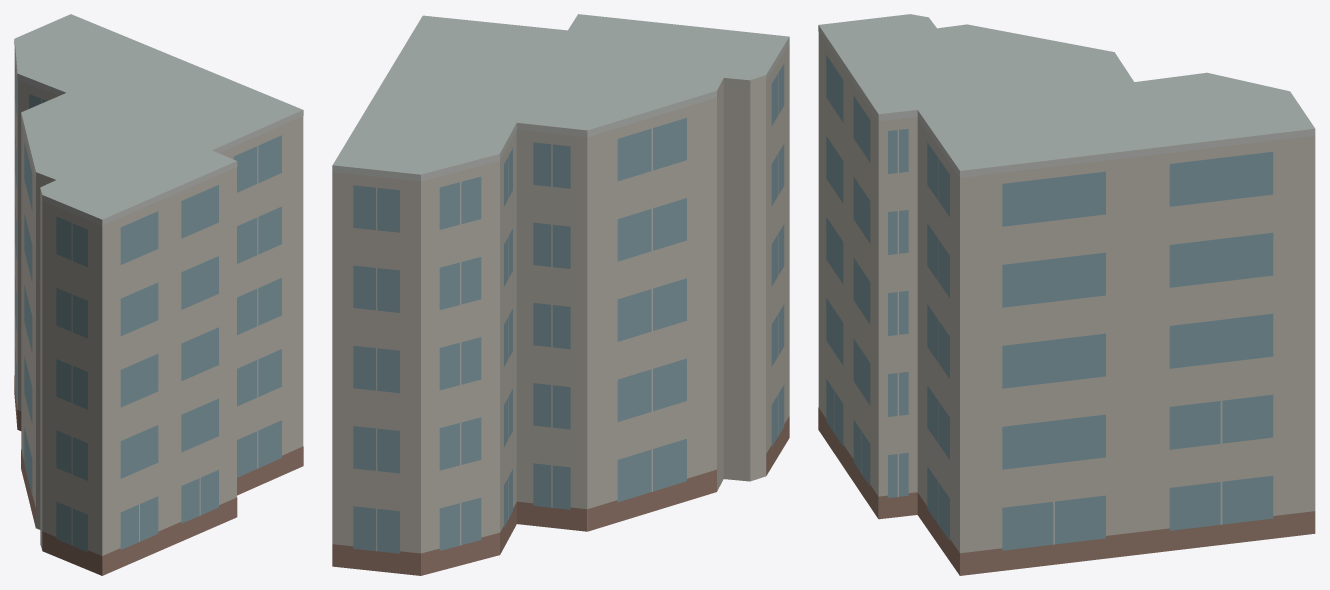
Rendered from survey-upis-32915126.glb.
The picture shows the model from 3 angles, left to right: view 1: azimuth 30°, elevation 25°; view 2: azimuth 150°, elevation 25°; view 3: azimuth 270°, elevation 25°; orthographic projection. The views are drawn at different scales.
Parts seen in each view (by area): view 1: survey-upis-32915126.tmp; view 2: survey-upis-32915126.tmp; view 3: survey-upis-32915126.tmp.
Part boxes in pixels (x1=…): survey-upis-32915126.tmp: x1=14, y1=14, x2=303, y2=575; survey-upis-32915126.tmp: x1=332, y1=14, x2=789, y2=575; survey-upis-32915126.tmp: x1=818, y1=14, x2=1315, y2=575.
Size of the model in its own units: 11.98 by 14.4 by 16.02.
